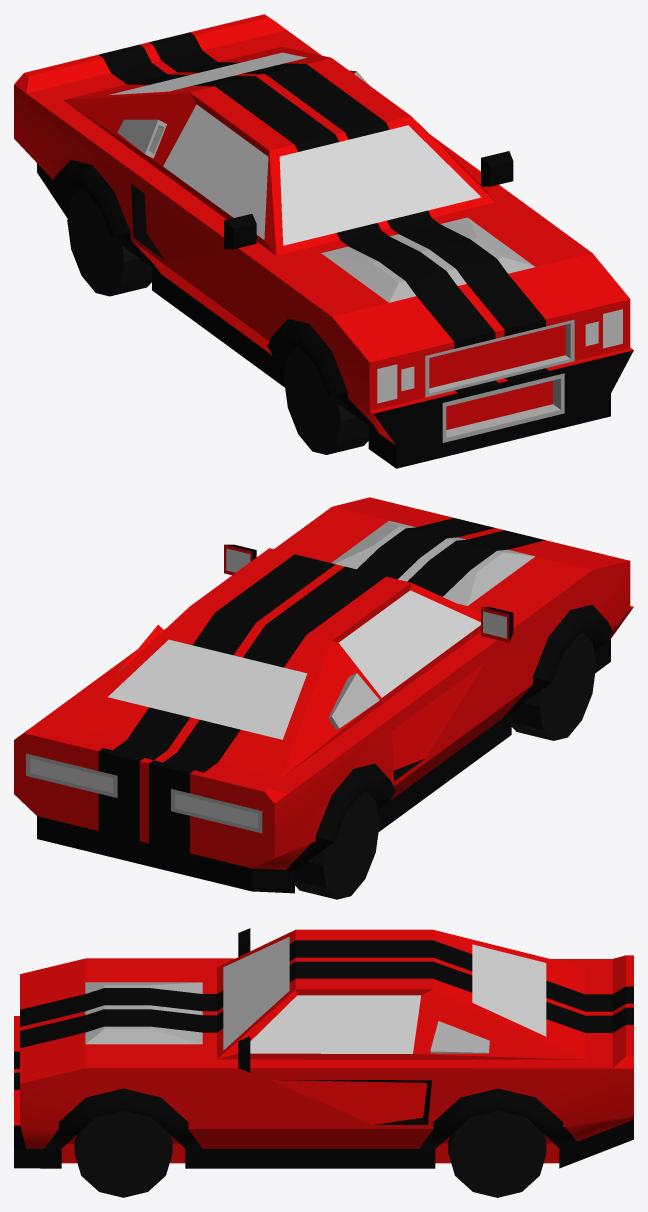
File: muscle_car.gltf
3 views of the same model, one above another, from view 1: azimuth 30°, elevation 25°; view 2: azimuth 150°, elevation 25°; view 3: azimuth 270°, elevation 25° (orthographic). The views are drawn at different scales.
Parts seen in each view (by area): view 1: MuscleCar, Wheel_FR.003, Wheel_RR.003; view 2: MuscleCar, Wheel_RR.003, Wheel_FR.003; view 3: MuscleCar, Wheel_RL.003, Wheel_FL.003.
Boxes of the visible parts, bbox=[...] form: MuscleCar: bbox=[14, 14, 633, 468]; Wheel_FR.003: bbox=[284, 347, 368, 454]; Wheel_RR.003: bbox=[67, 188, 151, 296]; MuscleCar: bbox=[14, 497, 633, 893]; Wheel_RR.003: bbox=[295, 791, 379, 899]; Wheel_FR.003: bbox=[511, 632, 596, 740]; MuscleCar: bbox=[14, 928, 633, 1168]; Wheel_RL.003: bbox=[448, 1110, 546, 1197]; Wheel_FL.003: bbox=[74, 1110, 172, 1197].
Size of the model in its own units: 3.57 by 2.56 by 7.8.
